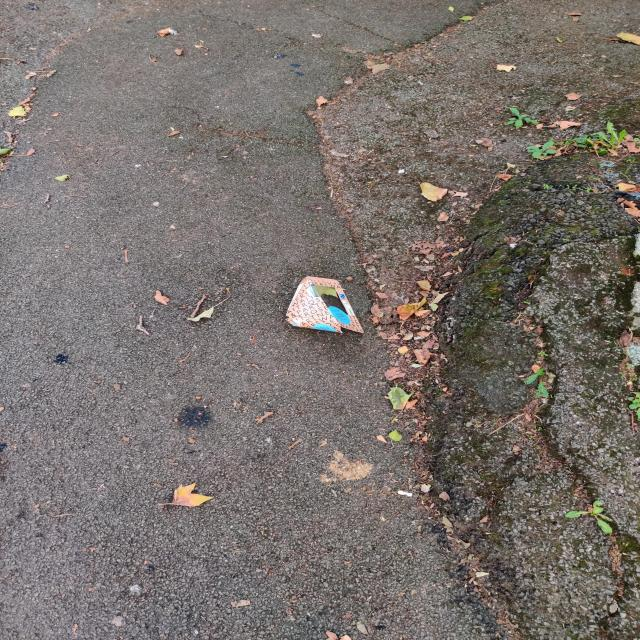litter: (265, 263, 385, 350)
